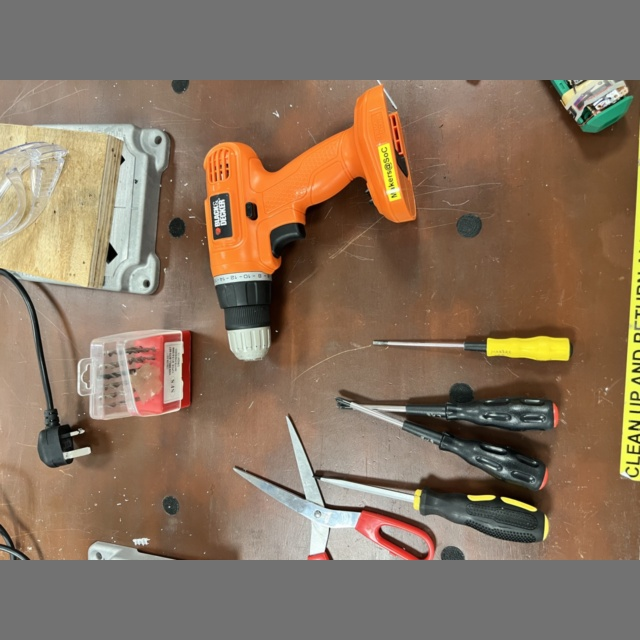drill: (204, 86, 416, 360)
scissor: (234, 415, 435, 560)
screwdriver: (337, 398, 555, 491), (320, 478, 549, 543), (336, 392, 557, 426), (373, 336, 571, 361)
